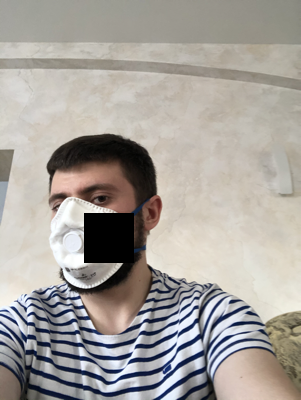with_mask: (49, 183, 139, 294)
